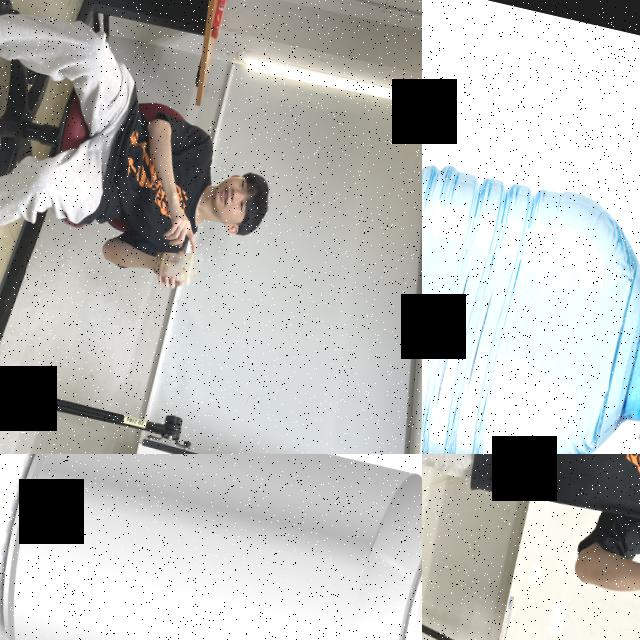bottle: (422, 99, 640, 454)
can: (0, 454, 422, 640)
cup: (150, 241, 197, 289)
